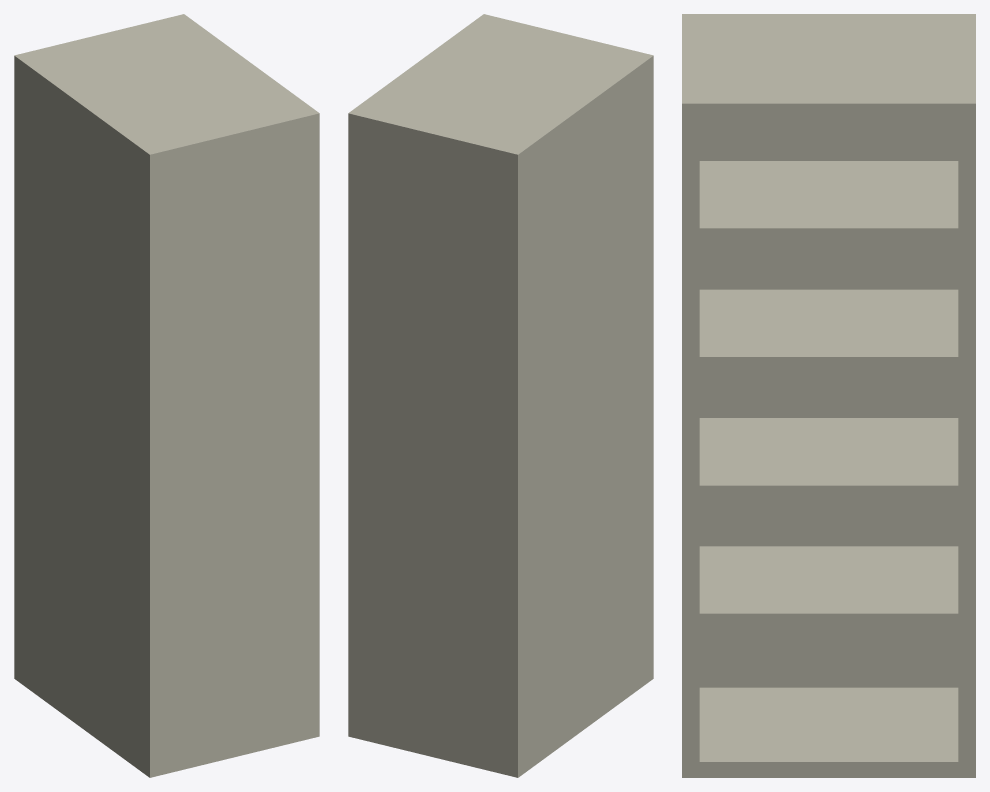
The model's file is cabinet.glb.
3 views of the same model, side by side, from view 1: azimuth 30°, elevation 25°; view 2: azimuth 150°, elevation 25°; view 3: azimuth 270°, elevation 25° (orthographic). The views are drawn at different scales.
Parts seen in each view (by area): view 1: Cabinet1-material; view 2: Cabinet1-material; view 3: Cabinet1-material.
Boxes of the visible parts, left/top/right/bottom form: Cabinet1-material: left=14, top=14, right=319, bottom=777; Cabinet1-material: left=348, top=14, right=653, bottom=777; Cabinet1-material: left=682, top=14, right=975, bottom=777.
Bounding box in the file's own units: 0.0788 × 0.276 × 0.109.
Materials: 1 (1 with a texture image).
